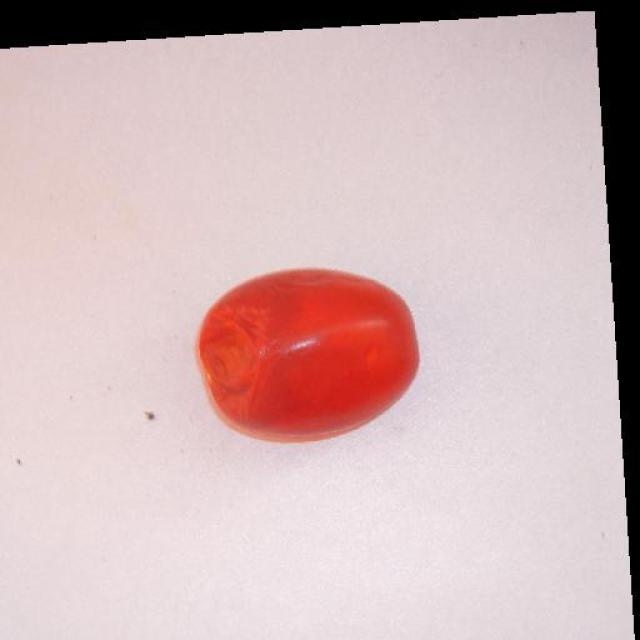Stale_tomato: (192, 233, 423, 460)
